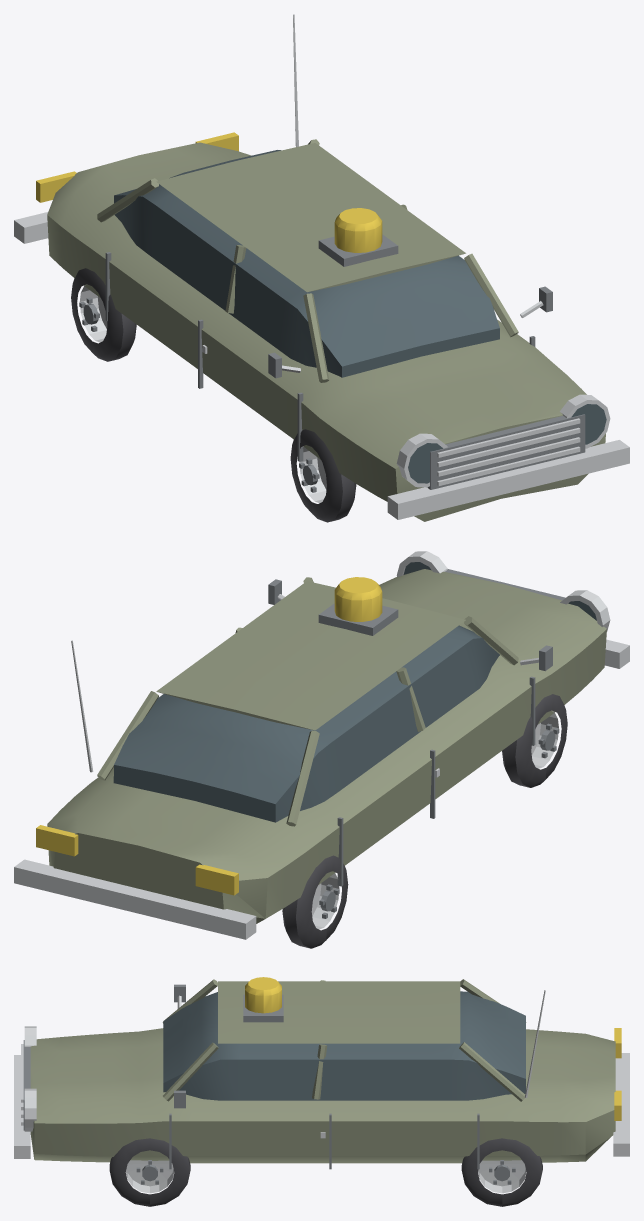
Rendered from cold-war-missile-silo-and-command-bunker-security-patr-f302884c__15682.glb.
3 views of the same model, one above another, from view 1: azimuth 30°, elevation 25°; view 2: azimuth 150°, elevation 25°; view 3: azimuth 270°, elevation 25° (orthographic). The views are drawn at different scales.
Visible parts, largest first — view 1: security-patrol-saloon, wheel-front-left (×2), wheel-rear-left (×2); view 2: security-patrol-saloon, wheel-rear-left (×2), wheel-front-left (×2); view 3: security-patrol-saloon, wheel-rear-right (×3), wheel-front-right (×2).
Part boxes in pixels (x1,y1,x2,y2): security-patrol-saloon: (14, 14, 629, 521); wheel-front-left (×2): (290, 429, 356, 522); wheel-rear-left (×2): (71, 268, 136, 361); security-patrol-saloon: (14, 551, 629, 939); wheel-rear-left (×2): (282, 855, 348, 948); wheel-front-left (×2): (502, 694, 567, 787); security-patrol-saloon: (14, 977, 629, 1169); wheel-rear-right (×3): (461, 1138, 542, 1206); wheel-front-right (×2): (109, 1138, 190, 1206).
Size of the model in its own units: 2.15 by 2 by 5.16.
